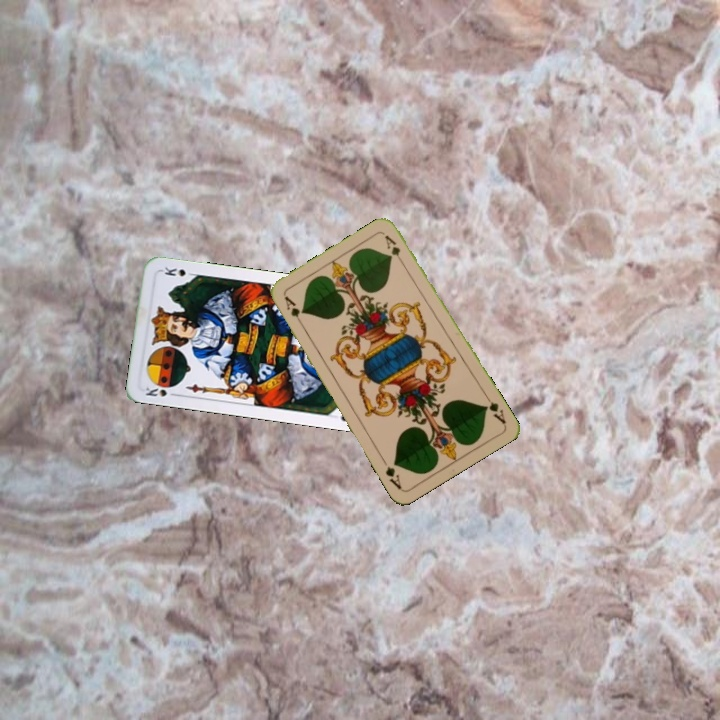GA: (481, 390, 509, 427), (280, 292, 306, 329)
SK: (142, 383, 181, 399)
